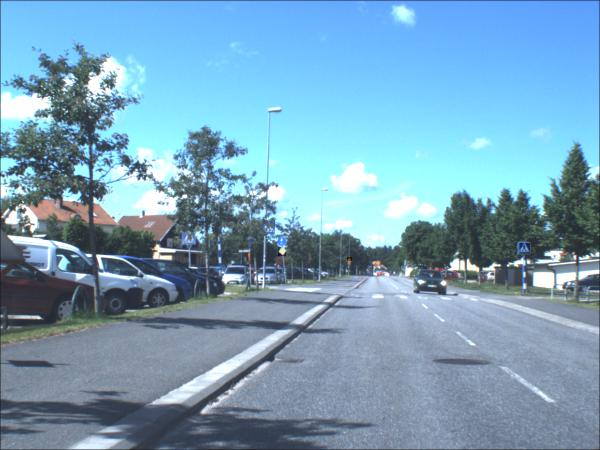GIVE_WAY: (247, 253, 251, 264)
PEDESTRIAN_CROSSING: (260, 221, 276, 237), (183, 233, 196, 246), (518, 244, 531, 256)
PRIORITY_ROAD: (278, 248, 287, 258), (348, 264, 351, 267)
WARNING: (347, 258, 353, 263)
